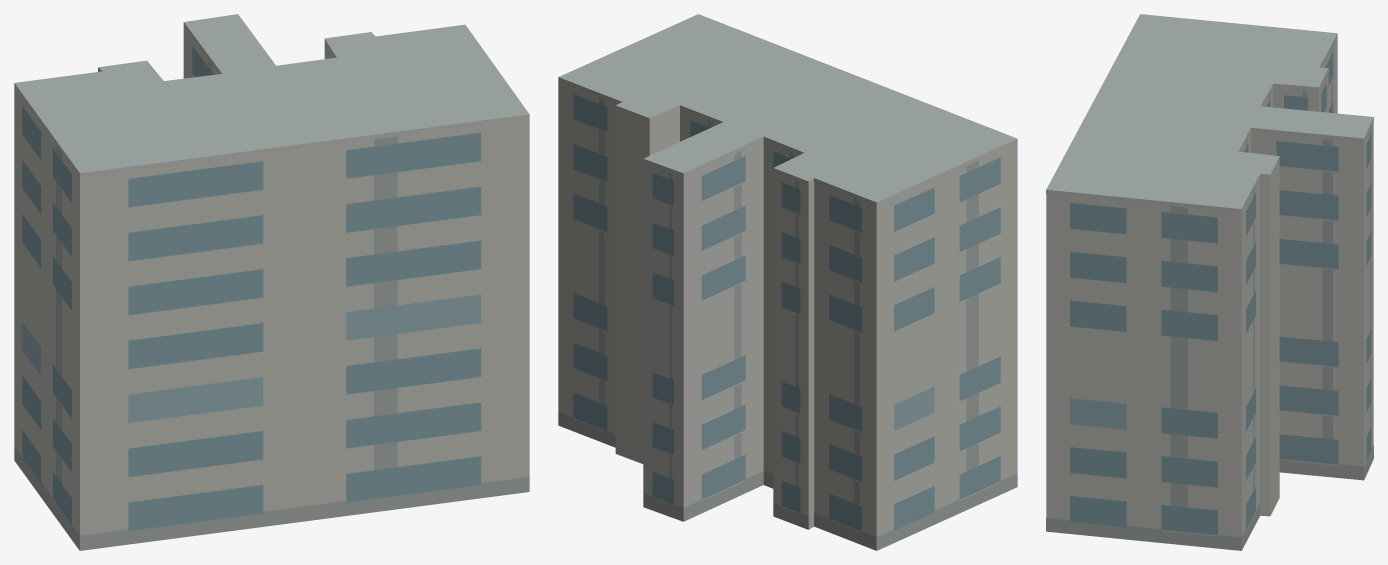
File: survey-upis-32874216.glb
3 views of the same model, side by side, from view 1: azimuth 30°, elevation 25°; view 2: azimuth 150°, elevation 25°; view 3: azimuth 270°, elevation 25° (orthographic). The views are drawn at different scales.
Visible parts, largest first — view 1: survey-upis-32874216.tmp; view 2: survey-upis-32874216.tmp; view 3: survey-upis-32874216.tmp.
Part boxes in pixels (x1=…): survey-upis-32874216.tmp: x1=14, y1=14, x2=529, y2=550; survey-upis-32874216.tmp: x1=558, y1=14, x2=1017, y2=550; survey-upis-32874216.tmp: x1=1046, y1=14, x2=1373, y2=550.
Size of the model in its own units: 24.73 by 20.2 by 17.56.
